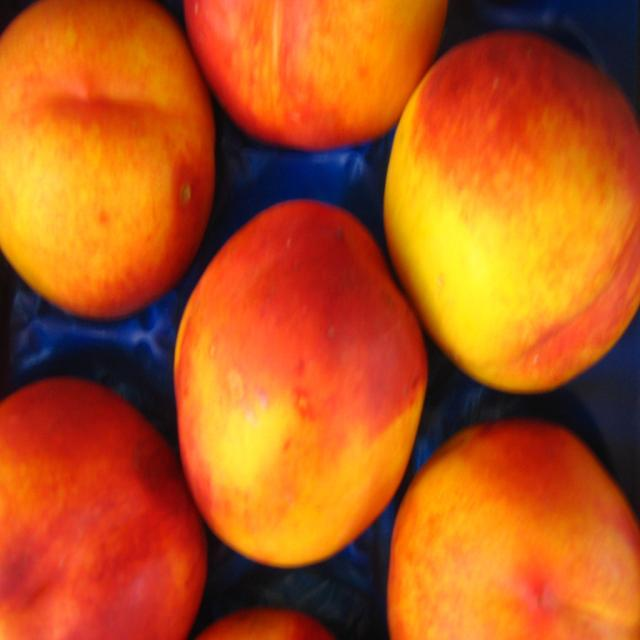Peach: (171, 198, 428, 568), (173, 198, 429, 568), (384, 32, 639, 398), (382, 33, 639, 396), (0, 0, 216, 326), (0, 0, 212, 317), (386, 418, 639, 639), (386, 423, 639, 639), (0, 378, 208, 639), (0, 378, 207, 639), (182, 0, 447, 156), (180, 0, 444, 149), (198, 603, 338, 639), (200, 608, 334, 640)
